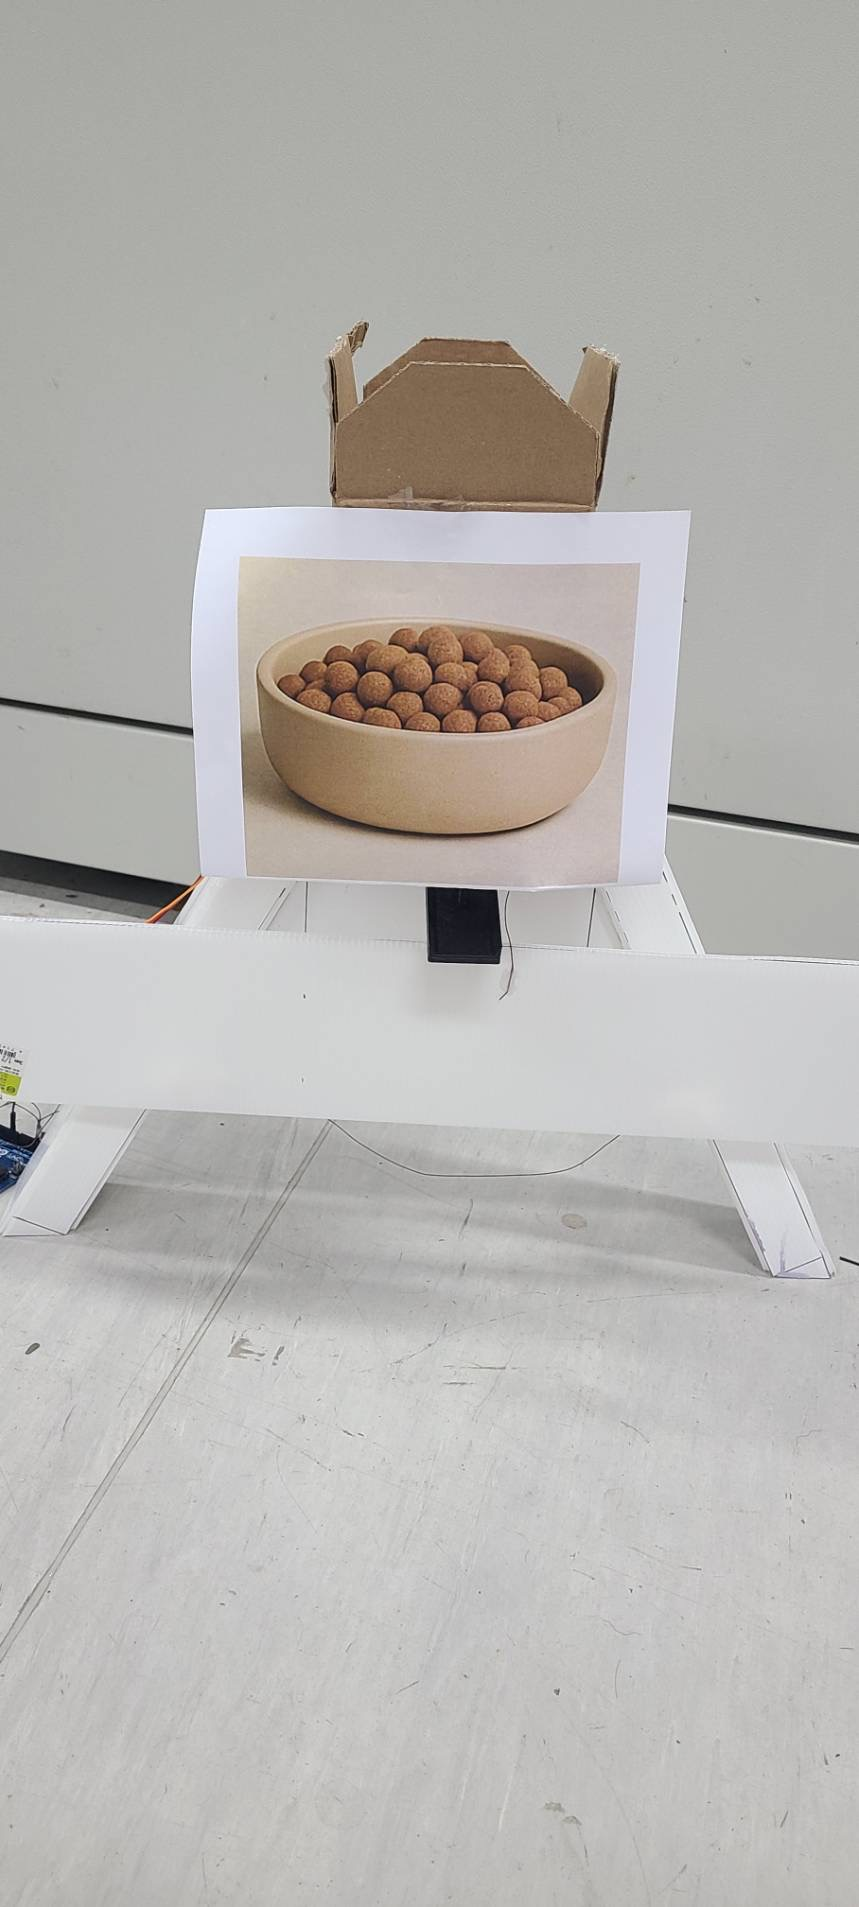machine: (251, 615, 628, 850)
